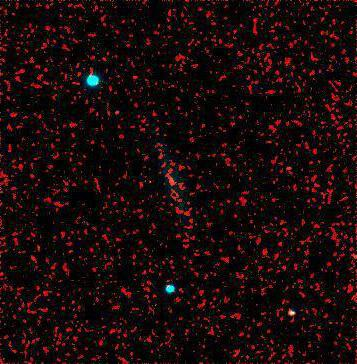star: (121, 59, 151, 89)
